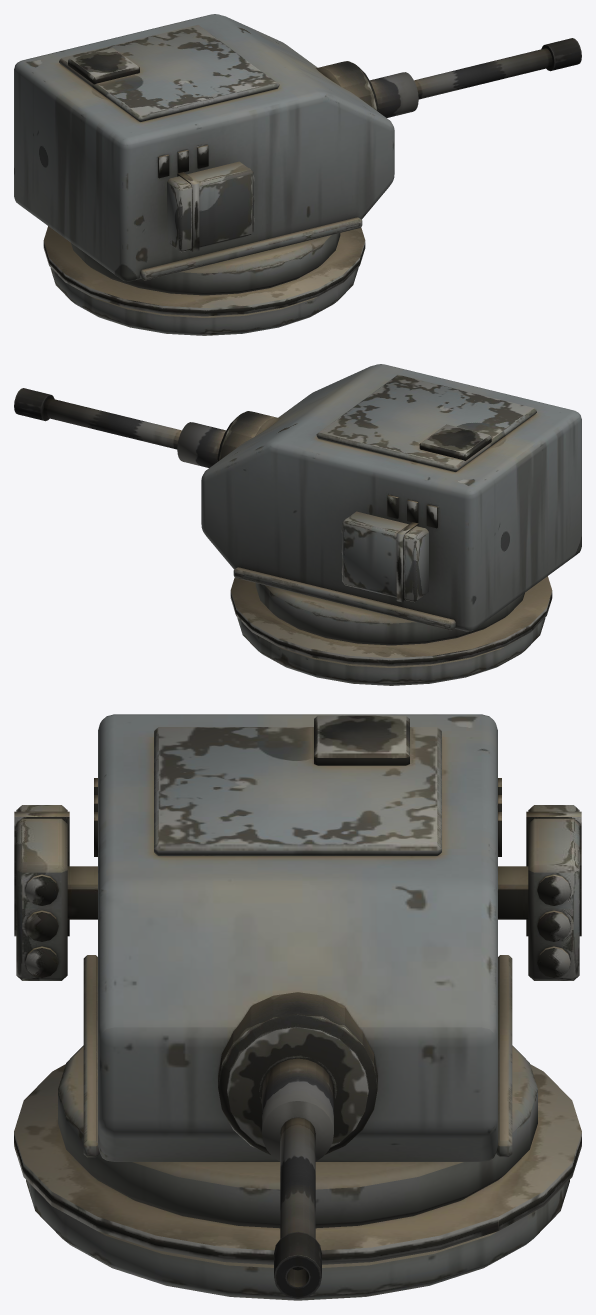
The model's file is turret_grach_t1_shark.glb.
The picture shows the model from 3 angles, top to bottom: view 1: azimuth 30°, elevation 25°; view 2: azimuth 150°, elevation 25°; view 3: azimuth 270°, elevation 25°; orthographic projection. The views are drawn at different scales.
Parts seen in each view (by area): view 1: turret_light_t1, guns, pods; view 2: turret_light_t1, guns, pods; view 3: turret_light_t1, guns, pods.
Part boxes in pixels (<box>): turret_light_t1: <box>14,14,394,335</box>; guns: <box>316,38,581,117</box>; pods: <box>167,161,254,252</box>; turret_light_t1: <box>201,364,581,685</box>; guns: <box>14,388,279,467</box>; pods: <box>341,511,428,602</box>; turret_light_t1: <box>14,714,581,1300</box>; guns: <box>218,992,377,1298</box>; pods: <box>14,805,581,980</box>.
Size of the model in its own units: 1.14 by 0.4664 by 0.6248.
3 materials, 3 textured.
